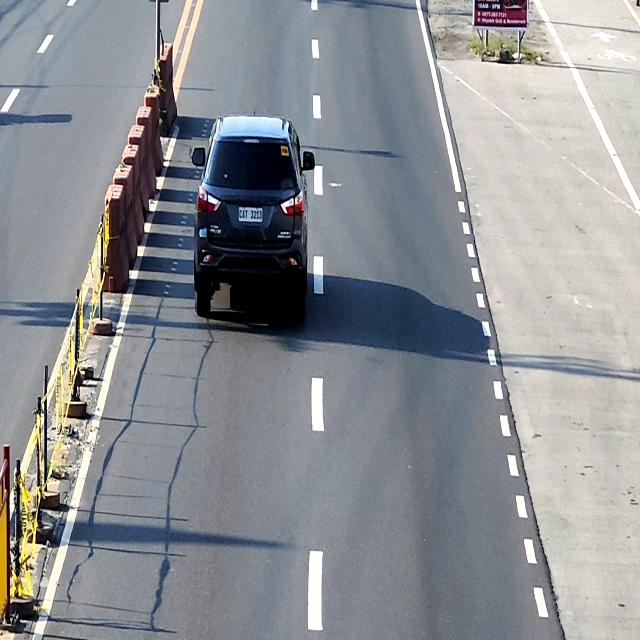Car: (192, 114, 315, 326)
License-Plate: (238, 207, 263, 222)
